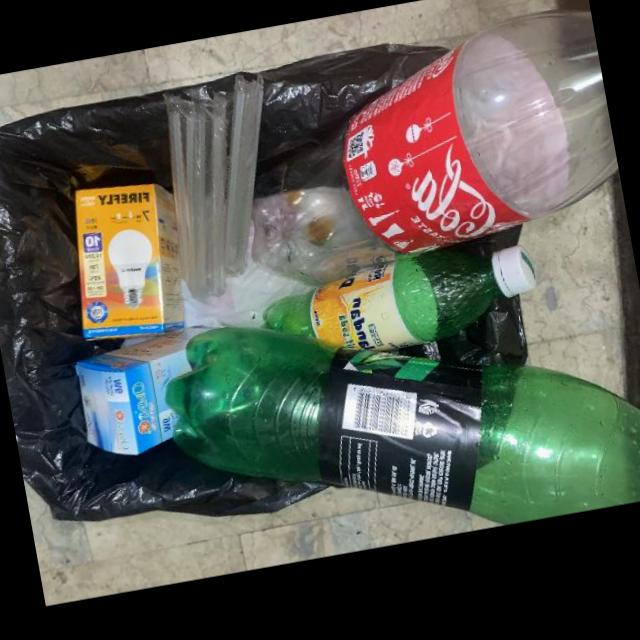carton: (75, 324, 217, 454), (74, 182, 184, 339)
chai_nhua: (164, 325, 640, 524), (263, 244, 536, 349)
chai_nhua_pet: (250, 8, 618, 285)
ong_hut_nhua: (167, 75, 263, 303)
